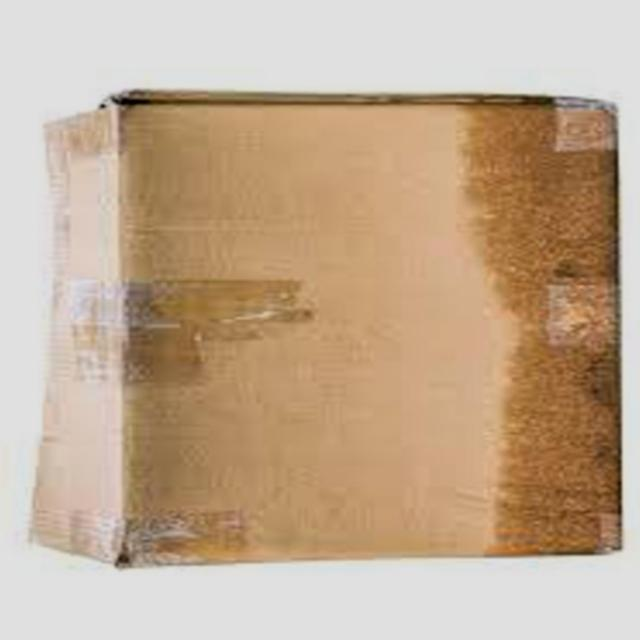box: (98, 204, 415, 577)
